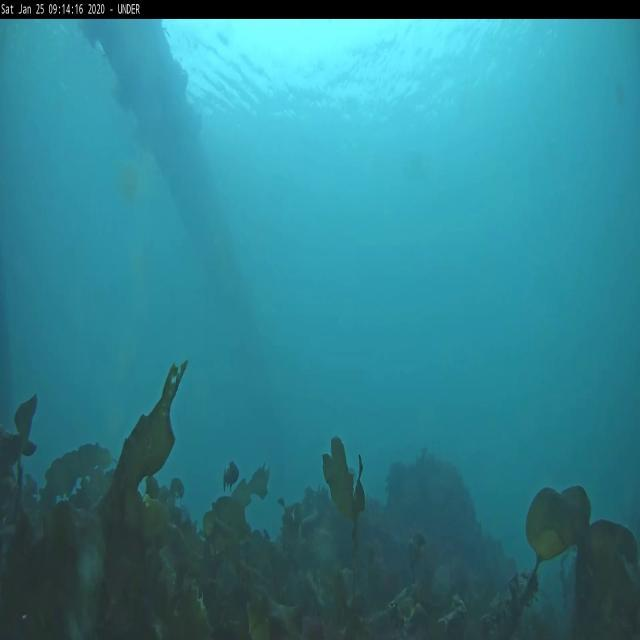fish: (223, 459, 241, 486)
